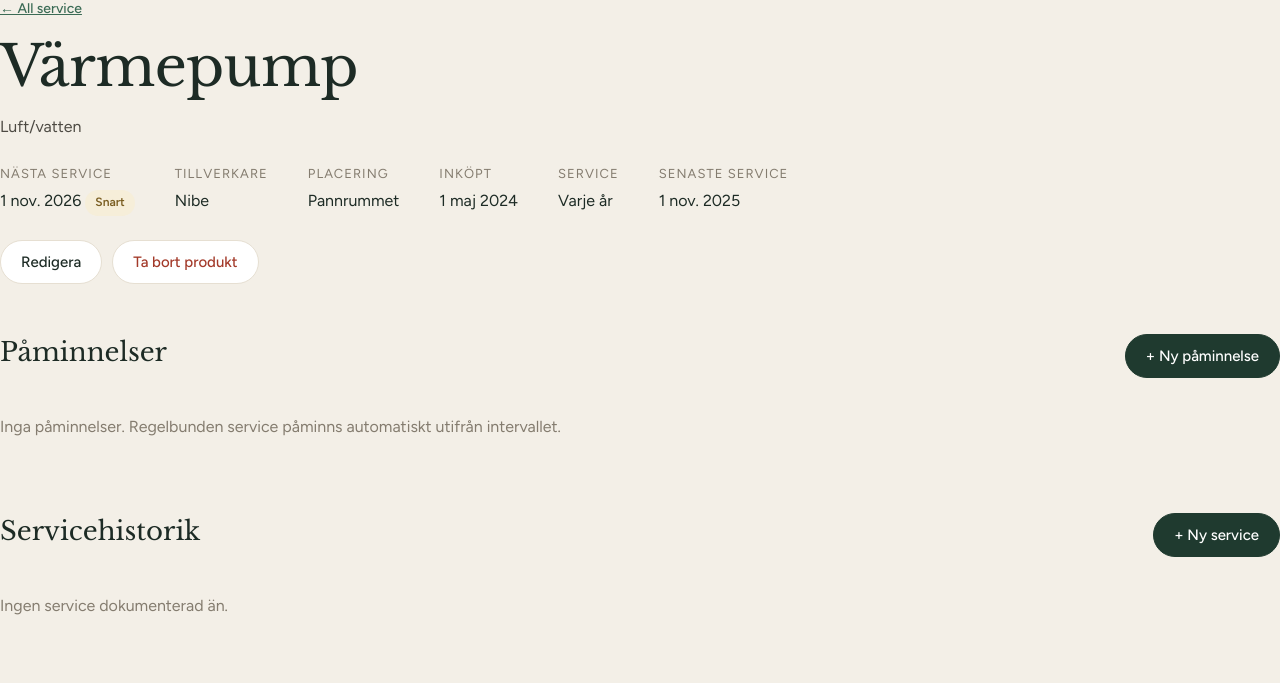
Scenario: ProductDetail › saves an edited product and shows the new values
This screenshot has width=1280, height=683.
Expected: the text "Ingen service dokumenterad än." is shown, [0,596,228,615]
Click the button "Redigera". click: {"x": 51, "y": 262}
box: [0,240,102,284]
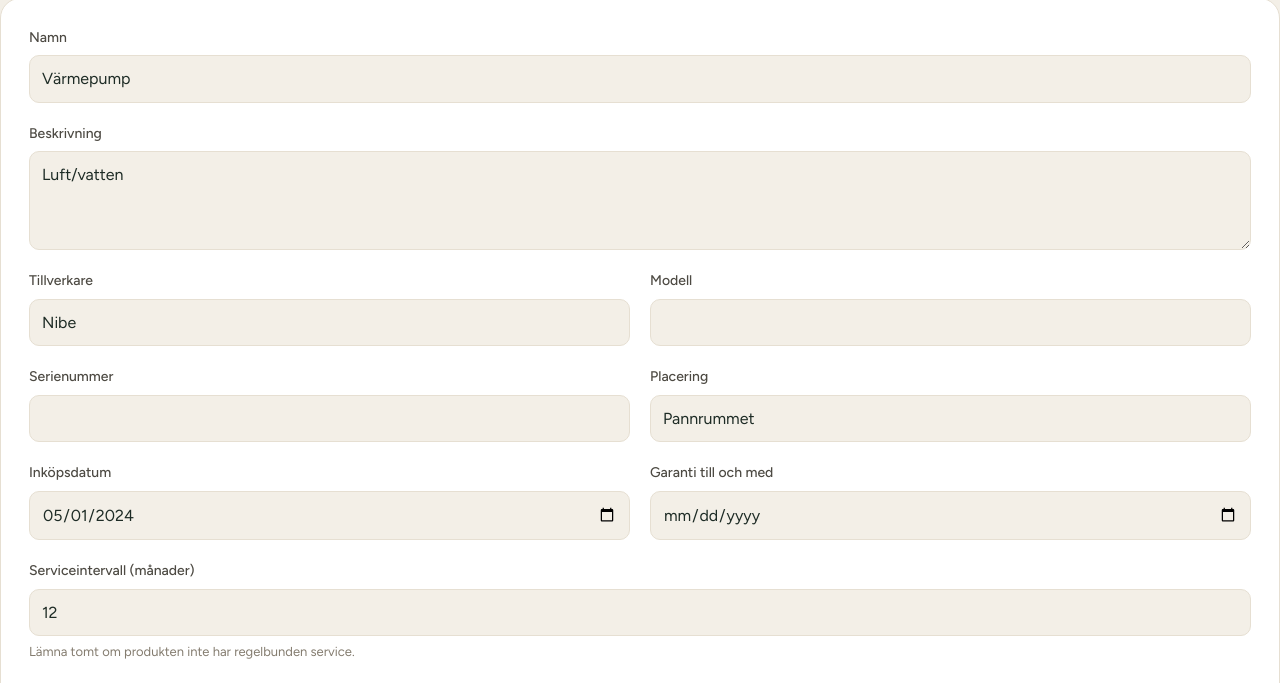
Replace the text in the field labelled "Placering" with "Garaget". click: {"x": 950, "y": 418}
box: [650,394,1251,442]
(page scrolled)
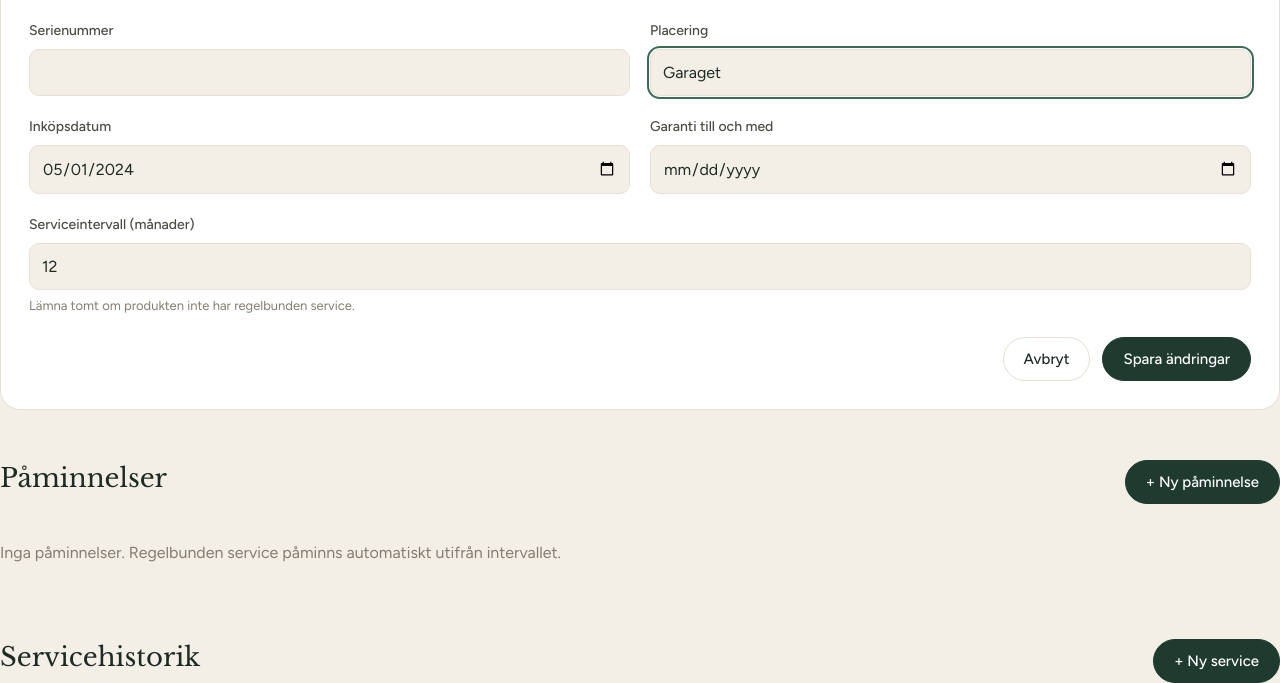
Click the button "Spara ändringar". click: {"x": 1177, "y": 359}
box: [1102,337,1251,381]
(page scrolled)
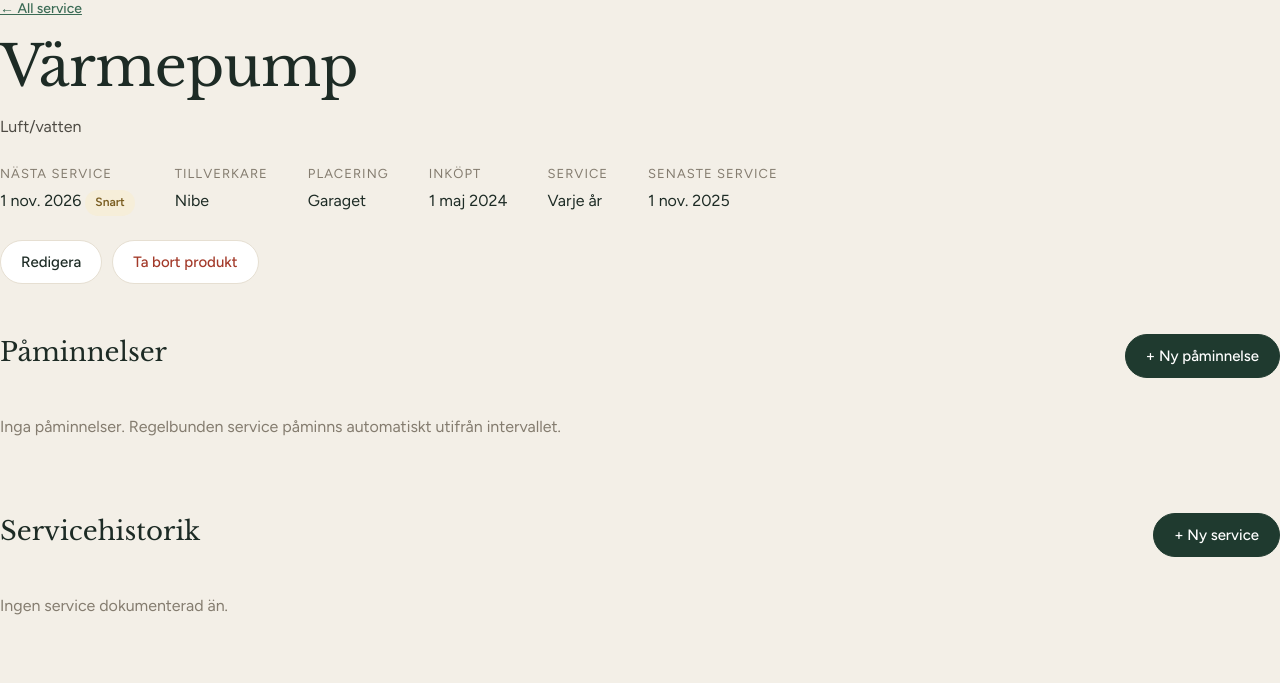
Expected: the text "Garaget" is shown, [308,191,366,210]
